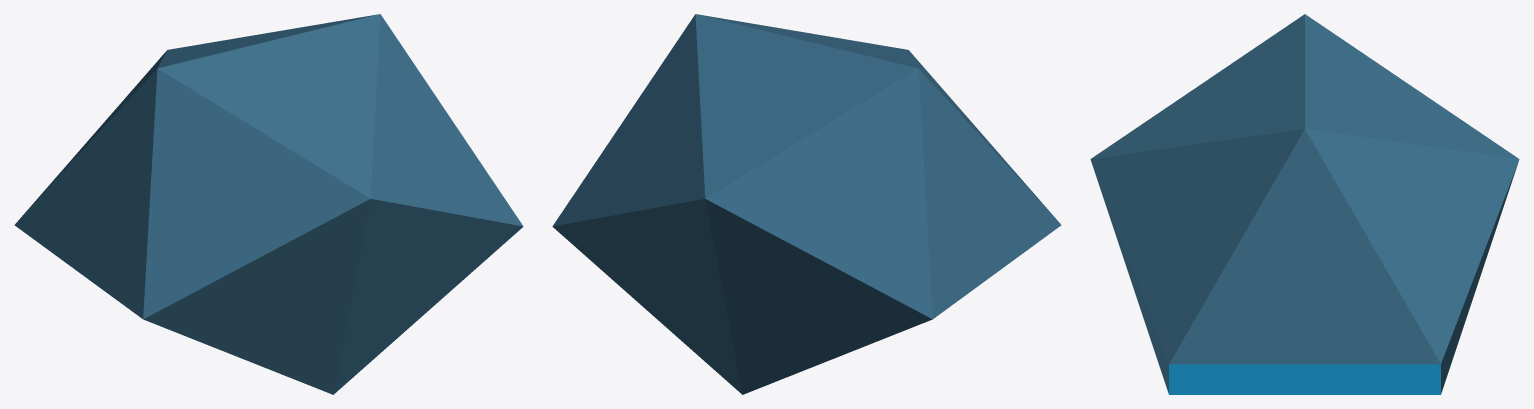
File: J86.Esfenocorona.gltf
The picture shows the model from 3 angles, left to right: view 1: azimuth 30°, elevation 25°; view 2: azimuth 150°, elevation 25°; view 3: azimuth 270°, elevation 25°; orthographic projection. The views are drawn at different scales.
Visible parts, largest first — view 1: J86.Esfenocorona; view 2: J86.Esfenocorona; view 3: J86.Esfenocorona.
Boxes of the visible parts, box(x1,y1,x2,y2) form: J86.Esfenocorona: box(14, 14, 523, 394); J86.Esfenocorona: box(552, 14, 1061, 394); J86.Esfenocorona: box(1090, 14, 1519, 394).
Bounding box in the file's own units: 17.07 × 13.15 × 15.8.
